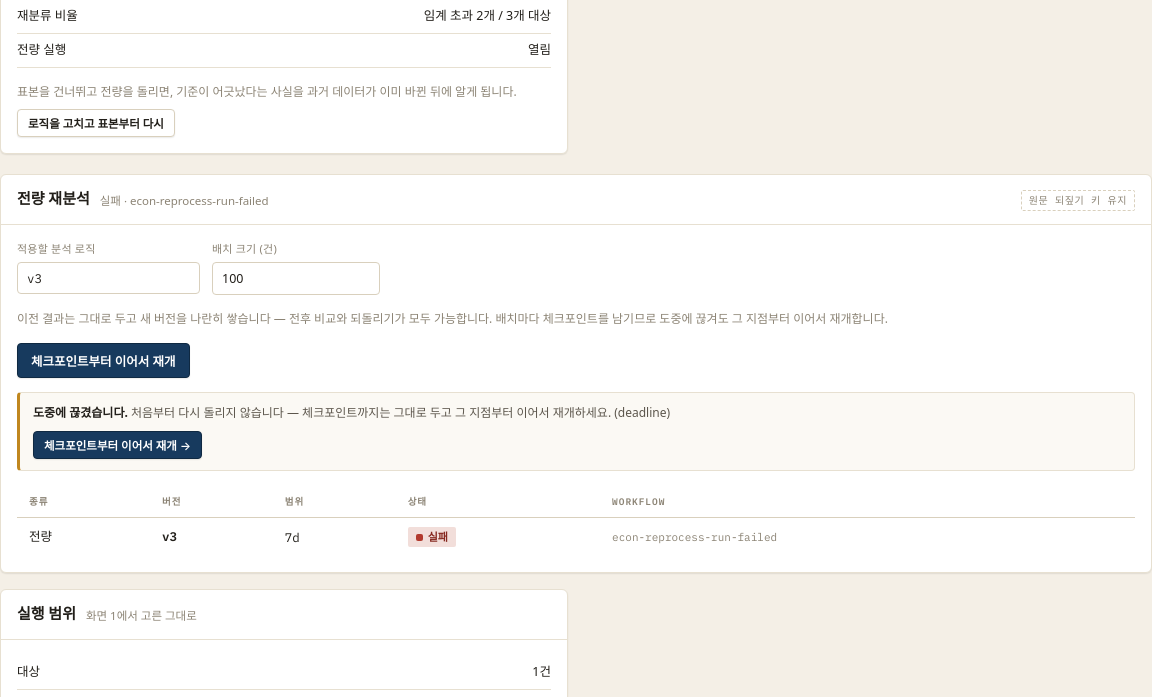
Test: opens the full run after a sample and offers to resume a failed one
The image size is (1152, 697).
(page scrolled)
Expected: the text with class "rp-gate" reads "열림", [528,41,551,58]
Expected: the element with class "rp-interrupted" shows "deadline", [618,404,666,421]
Click the button with class "rp-full" at (103, 361), box [17,343,190,378]
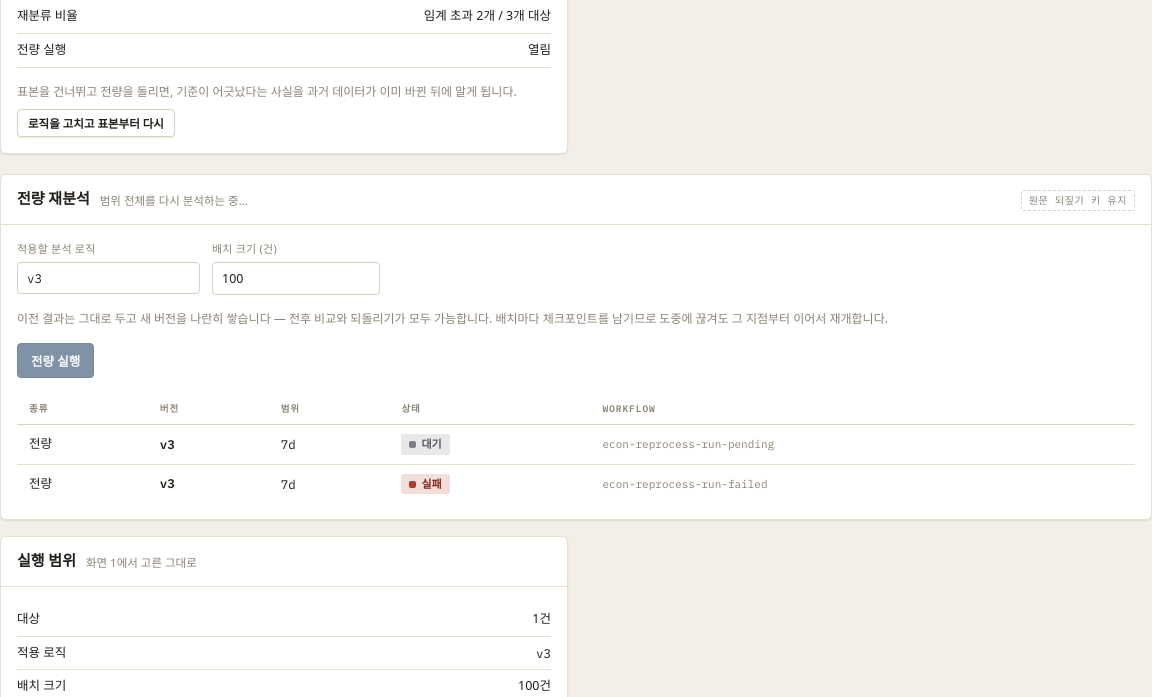
Now the text with class "sub" reads "범위 전체를 다시 분석하는 중…", box [100,193,248,208]
